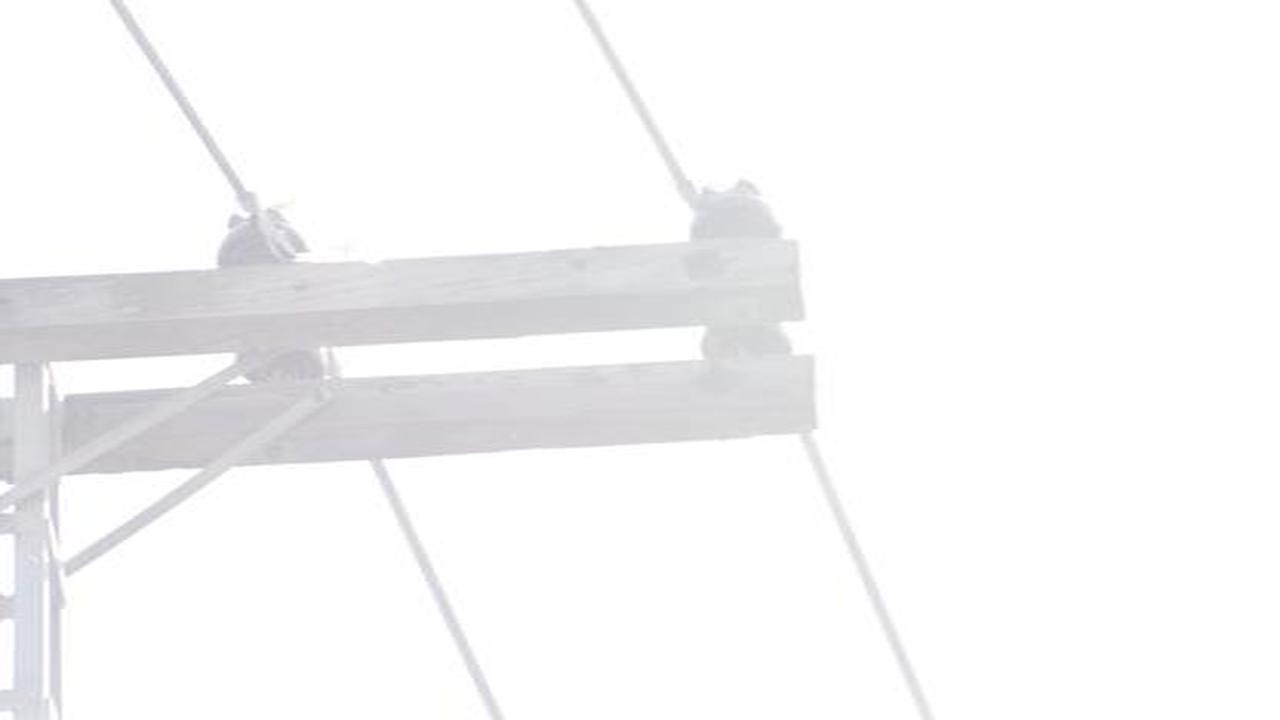insulator_pin: (683, 172, 793, 248), (213, 208, 308, 270)
